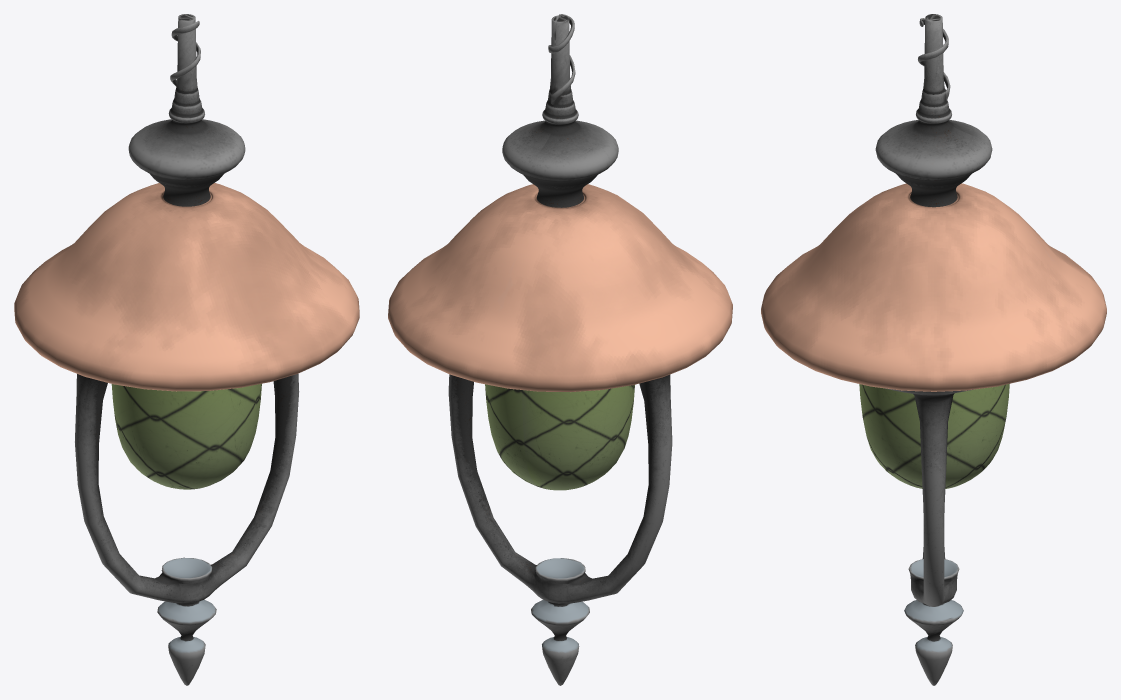
Rendered from ODis_HangingLamp.fbx.
The picture shows the model from 3 angles, left to right: view 1: azimuth 30°, elevation 25°; view 2: azimuth 150°, elevation 25°; view 3: azimuth 270°, elevation 25°; orthographic projection.
Parts seen in each view (by area): view 1: hanging lamp; view 2: hanging lamp; view 3: hanging lamp.
Part boxes in pixels (x1,y1,x2,y2): hanging lamp: (14,14,359,685); hanging lamp: (388,14,732,685); hanging lamp: (761,14,1106,685).
Bounding box in the file's own units: 246 × 525 × 246.
